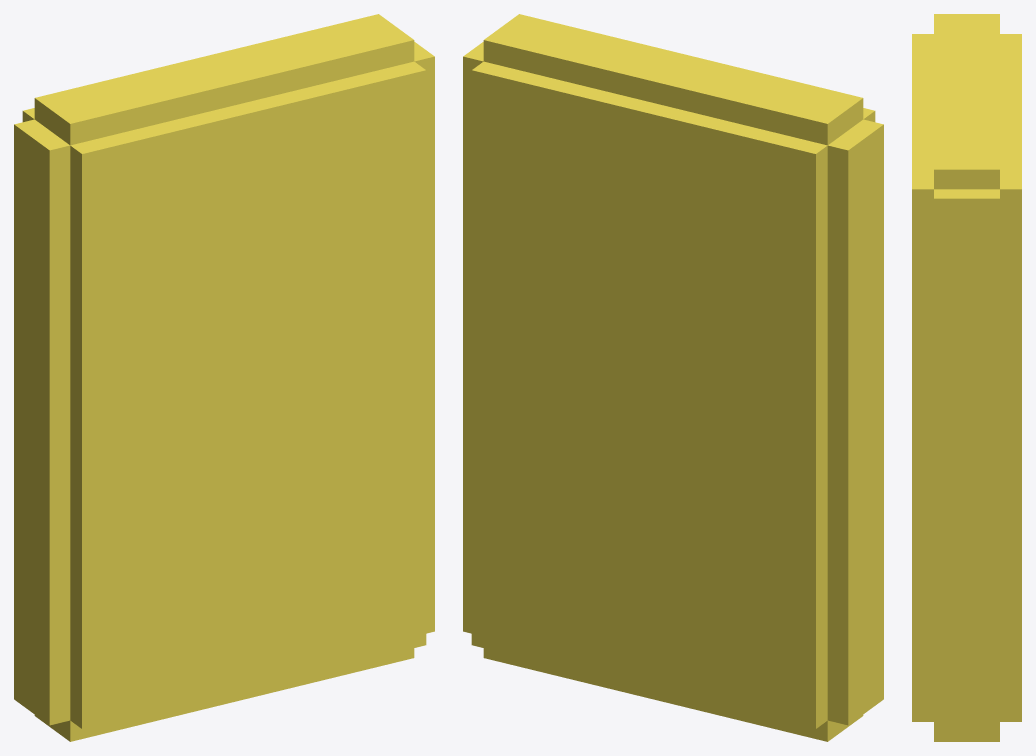
Rendered from outlet_cover.glb.
The picture shows the model from 3 angles, left to right: view 1: azimuth 30°, elevation 25°; view 2: azimuth 150°, elevation 25°; view 3: azimuth 270°, elevation 25°; orthographic projection. The views are drawn at different scales.
Parts seen in each view (by area): view 1: outlet_cover; view 2: outlet_cover; view 3: outlet_cover.
Part boxes in pixels (bbox=[...]): outlet_cover: bbox=[14, 14, 434, 741]; outlet_cover: bbox=[463, 14, 883, 741]; outlet_cover: bbox=[912, 14, 1021, 741].
Bounding box in the file's own units: 0.075 × 0.115 × 0.02.
